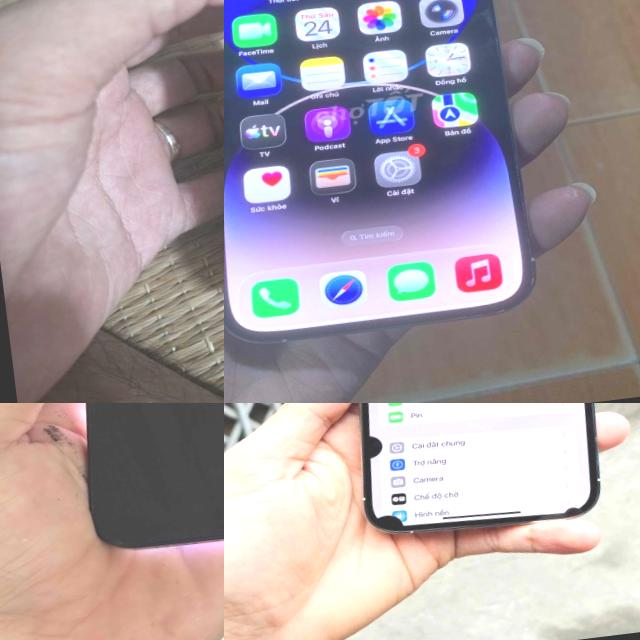gen_12_13: (39, 403, 224, 560)
gen_14: (224, 0, 549, 353)
gen_15: (322, 403, 624, 551)
